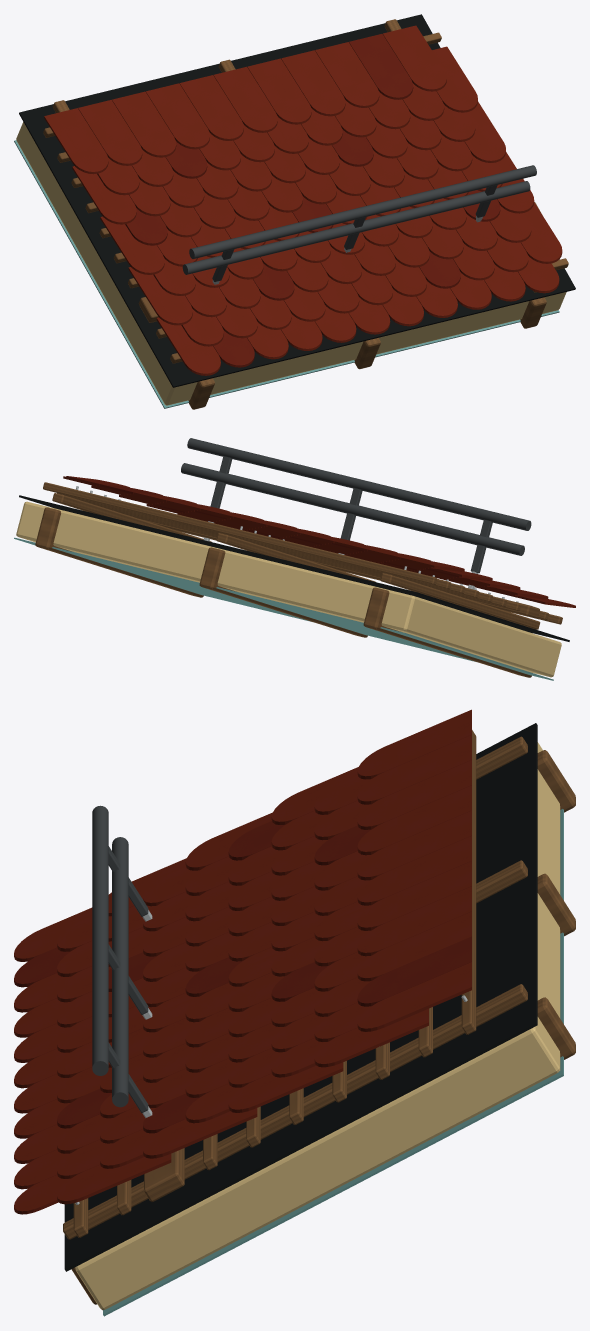
Rendered from modell.glb.
The picture shows the model from 3 angles, top to bottom: view 1: azimuth 30°, elevation 25°; view 2: azimuth 150°, elevation 25°; view 3: azimuth 270°, elevation 25°; orthographic projection. The views are drawn at different scales.
Parts seen in each view (by area): view 1: a02-deckziegel_deckung, a02-zusatzebene_zusatzebene, a02-daemmung_daemmung, a02-deckziegel_deckung.001, a02-fangsystem_, a02-luftdichtheit_luftdichtheit, a02-lattung_lattung, a02-sparren_tragwerk, a02-halter_; view 2: a02-daemmung_daemmung, a02-lattung_lattung, a02-fangsystem_, a02-deckziegel_deckung, a02-sparren_tragwerk, a02-luftdichtheit_luftdichtheit, a02-zusatzebene_zusatzebene, a02-halter_, a02-befestigungsuntergrund_lattung, a02-deckziegel_deckung.001; view 3: a02-deckziegel_deckung, a02-daemmung_daemmung, a02-zusatzebene_zusatzebene, a02-lattung_lattung, a02-deckziegel_deckung.001, a02-fangsystem_, a02-luftdichtheit_luftdichtheit, a02-sparren_tragwerk, a02-halter_, a02-befestigungsuntergrund_lattung.
Part boxes in pixels (x1=…): a02-deckziegel_deckung: x1=44, y1=25, x2=562, y2=375; a02-zusatzebene_zusatzebene: x1=19, y1=14, x2=575, y2=387; a02-daemmung_daemmung: x1=16, y1=122, x2=566, y2=405; a02-deckziegel_deckung.001: x1=125, y1=34, x2=500, y2=367; a02-fangsystem_: x1=182, y1=165, x2=536, y2=274; a02-luftdichtheit_luftdichtheit: x1=14, y1=140, x2=559, y2=408; a02-lattung_lattung: x1=43, y1=19, x2=568, y2=363; a02-sparren_tragwerk: x1=188, y1=297, x2=546, y2=409; a02-halter_: x1=212, y1=185, x2=497, y2=281; a02-daemmung_daemmung: x1=16, y1=501, x2=561, y2=677; a02-lattung_lattung: x1=43, y1=482, x2=562, y2=629; a02-fangsystem_: x1=181, y1=438, x2=531, y2=555; a02-deckziegel_deckung: x1=63, y1=476, x2=575, y2=607; a02-sparren_tragwerk: x1=35, y1=507, x2=531, y2=677; a02-luftdichtheit_luftdichtheit: x1=14, y1=537, x2=553, y2=680; a02-zusatzebene_zusatzebene: x1=19, y1=495, x2=569, y2=641; a02-halter_: x1=210, y1=456, x2=492, y2=573; a02-befestigungsuntergrund_lattung: x1=142, y1=519, x2=539, y2=618; a02-deckziegel_deckung.001: x1=99, y1=484, x2=512, y2=596; a02-deckziegel_deckung: x1=14, y1=709, x2=471, y2=1214; a02-daemmung_daemmung: x1=75, y1=742, x2=560, y2=1310; a02-zusatzebene_zusatzebene: x1=64, y1=723, x2=537, y2=1271; a02-lattung_lattung: x1=63, y1=730, x2=527, y2=1239; a02-deckziegel_deckung.001: x1=14, y1=821, x2=471, y2=1133; a02-fangsystem_: x1=92, y1=805, x2=128, y2=1107; a02-luftdichtheit_luftdichtheit: x1=103, y1=809, x2=563, y2=1316; a02-sparren_tragwerk: x1=71, y1=750, x2=575, y2=1304; a02-halter_: x1=108, y1=846, x2=148, y2=1112; a02-befestigungsuntergrund_lattung: x1=144, y1=1148, x2=184, y2=1201.
Size of the model in its own units: 2.14 by 1.07 by 1.69.
Materials: 8 (3 with a texture image).
